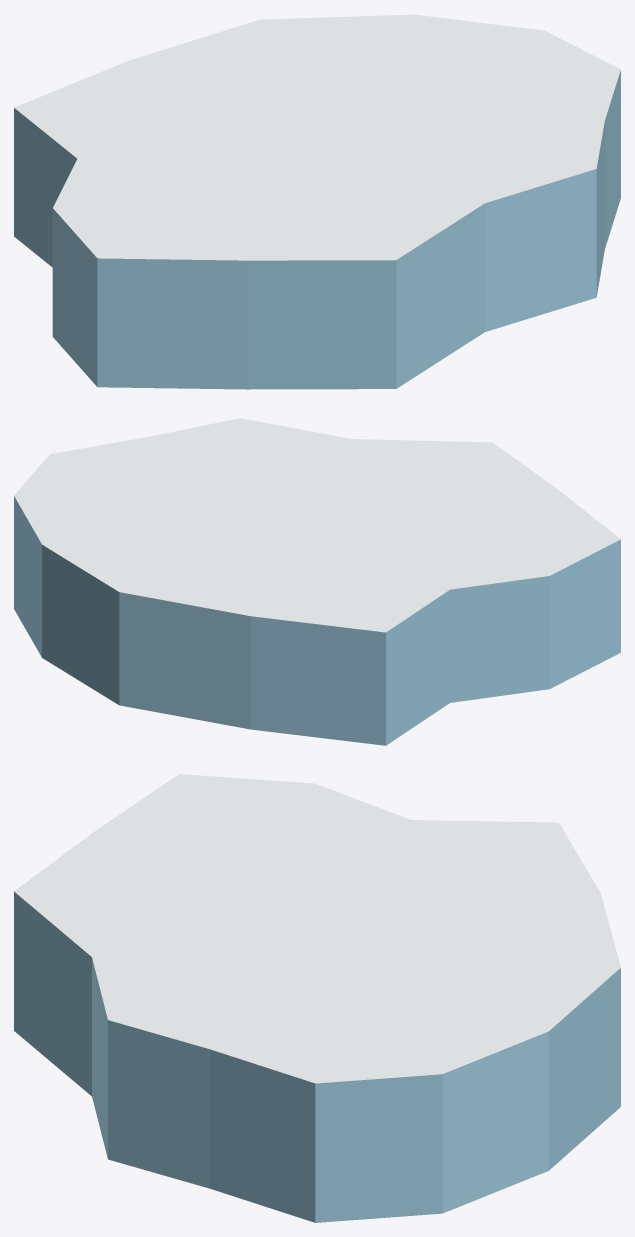
The model's file is IceFloe.glb.
3 views of the same model, one above another, from view 1: azimuth 30°, elevation 25°; view 2: azimuth 150°, elevation 25°; view 3: azimuth 270°, elevation 25° (orthographic). The views are drawn at different scales.
Parts seen in each view (by area): view 1: IceFloe; view 2: IceFloe; view 3: IceFloe.
Boxes of the visible parts, x1,y1,x2,y2 form: IceFloe: [14, 14, 620, 389]; IceFloe: [14, 418, 620, 745]; IceFloe: [14, 774, 620, 1222].
Size of the model in its own units: 2.52 by 0.53 by 2.09.
